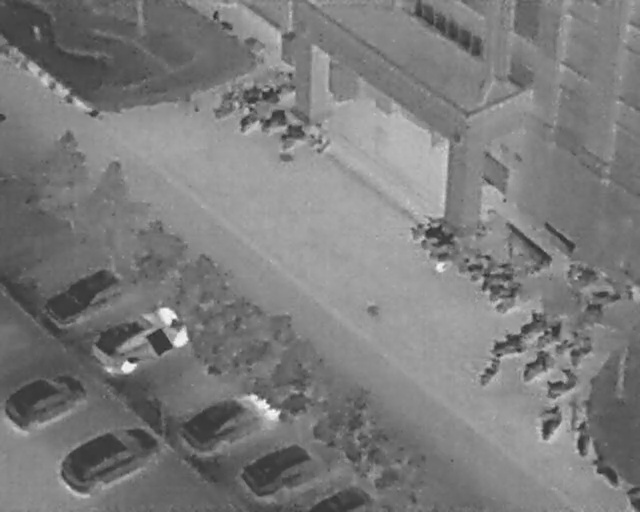Bicycle: (514, 345, 558, 385), (586, 448, 628, 489), (509, 302, 551, 341), (540, 363, 581, 402), (229, 99, 264, 137), (488, 329, 530, 360), (532, 315, 569, 350), (563, 335, 599, 370), (256, 103, 292, 138), (476, 350, 506, 390), (274, 117, 310, 150), (550, 326, 586, 358), (476, 262, 517, 290), (538, 400, 564, 443), (484, 279, 525, 305), (416, 215, 449, 245), (209, 95, 243, 124), (427, 230, 462, 257), (208, 8, 238, 35), (463, 251, 495, 276), (576, 419, 589, 459), (260, 87, 282, 103), (626, 486, 639, 508)
Car: (50, 408, 166, 504), (84, 291, 195, 388), (174, 376, 284, 470), (237, 425, 339, 507), (34, 258, 129, 335), (0, 360, 91, 437), (310, 483, 375, 511)
